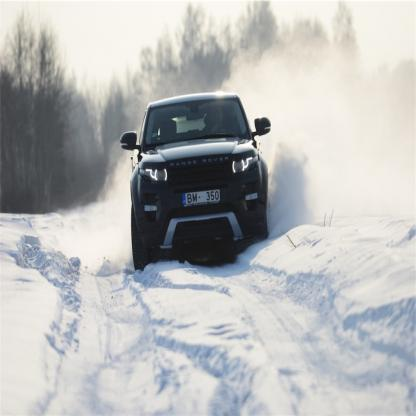Car: (119, 87, 275, 278)
